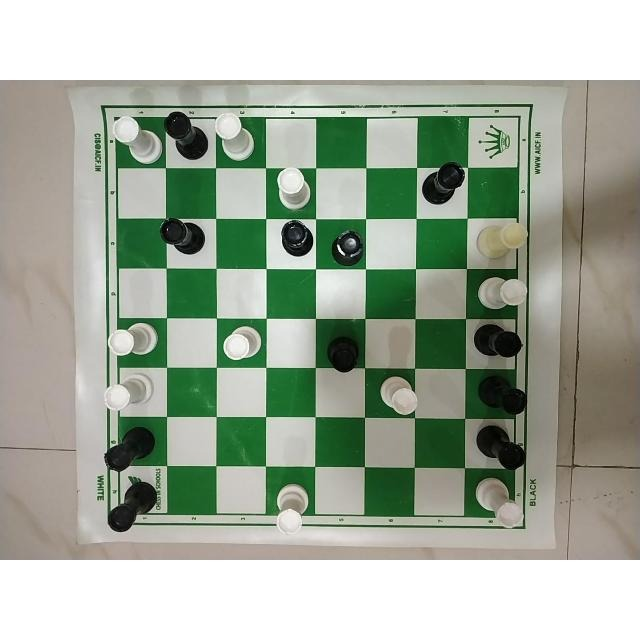black-rook: (103, 480, 158, 530), (102, 425, 158, 473), (471, 425, 528, 469), (164, 110, 210, 162), (472, 320, 529, 360), (475, 376, 529, 416), (421, 161, 465, 210), (157, 215, 207, 258), (322, 332, 361, 378), (277, 217, 315, 260), (330, 228, 366, 268)
white-rook: (473, 475, 528, 535), (111, 115, 163, 164), (472, 222, 532, 262), (273, 478, 314, 536), (477, 274, 533, 314), (213, 113, 259, 161), (104, 321, 161, 359), (104, 372, 156, 412), (271, 168, 313, 212), (377, 374, 419, 417), (222, 321, 264, 362)
